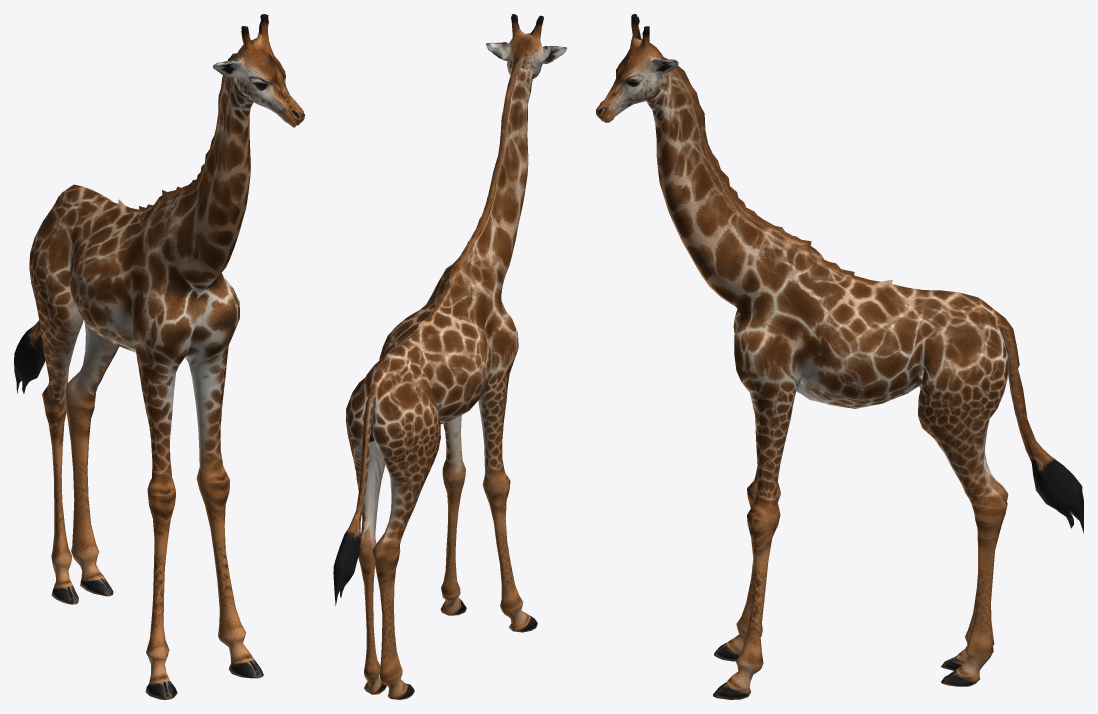
File: giraffe.glb
The picture shows the model from 3 angles, left to right: view 1: azimuth 30°, elevation 25°; view 2: azimuth 150°, elevation 25°; view 3: azimuth 270°, elevation 25°; orthographic projection. The views are drawn at different scales.
Size of the model in its own units: 0.1777 by 1 by 0.6758.
1 material, 1 textured.
